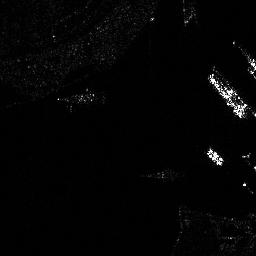ship: (206, 73, 246, 117), (204, 148, 224, 165)
